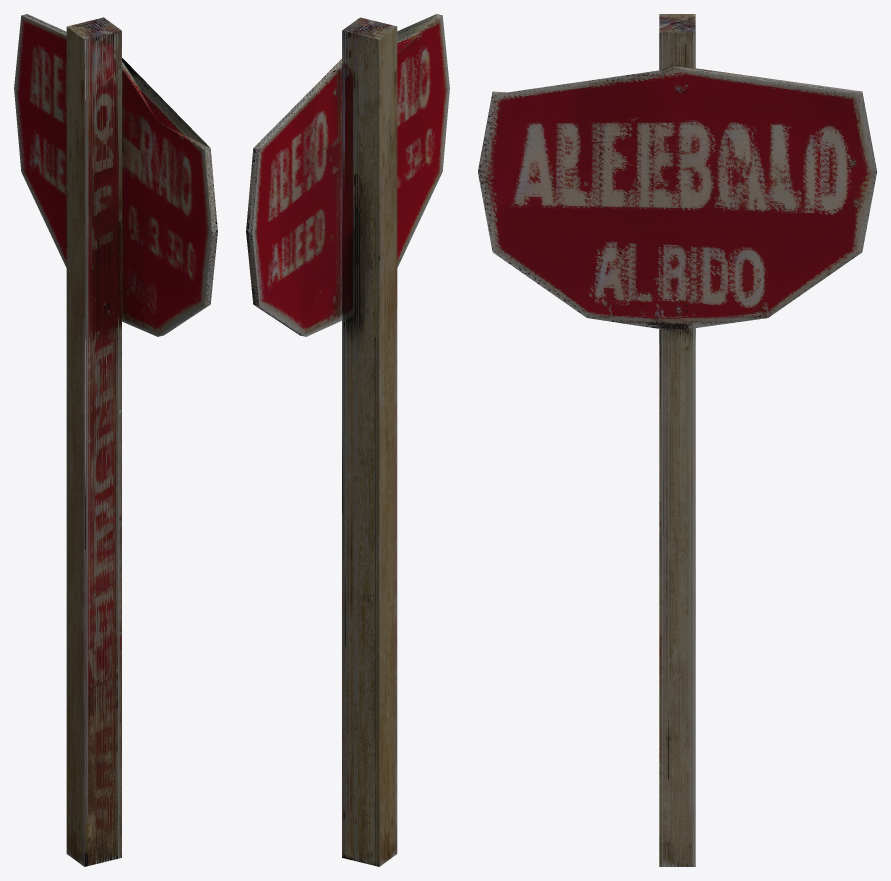
3 renders of one model, left to right at view 1: azimuth 30°, elevation 25°; view 2: azimuth 150°, elevation 25°; view 3: azimuth 270°, elevation 25°, orthographic.
Visible parts, largest first — view 1: textured.obj; view 2: textured.obj; view 3: textured.obj.
Part boxes in pixels (x1,y1,x2,y2): textured.obj: (14,14,217,866); textured.obj: (246,14,449,866); textured.obj: (478,14,876,866).
Bounding box in the file's own units: 0.1102 × 2 × 0.8661.
Materials: 1 (1 with a texture image).
